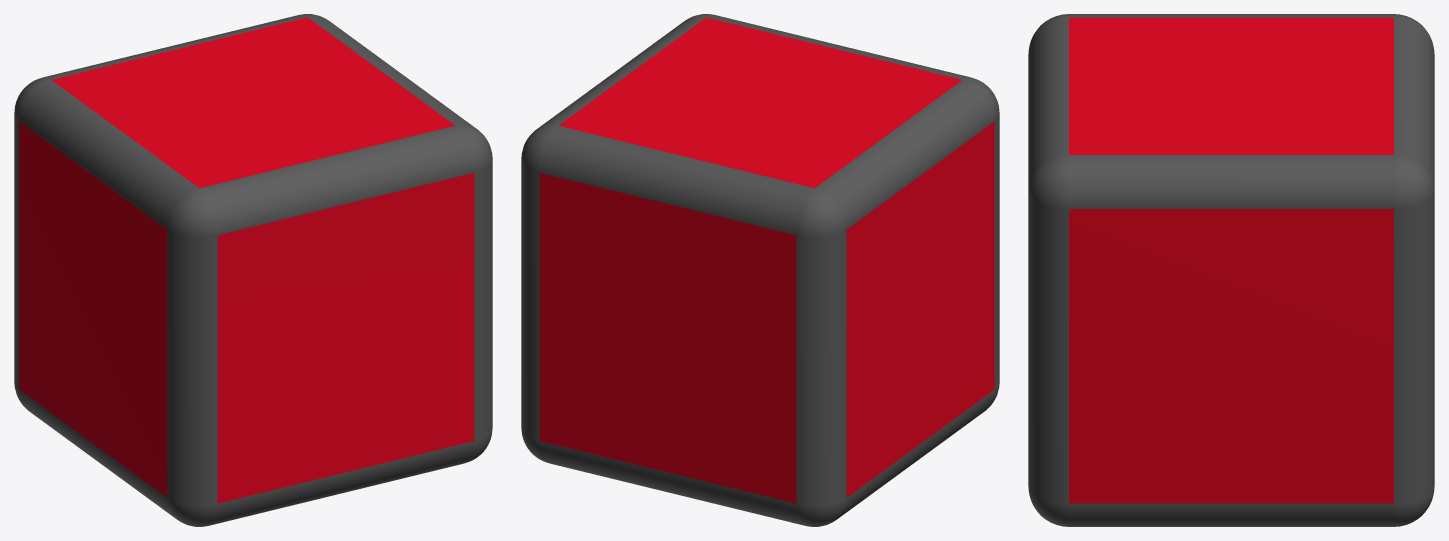
File: stone1.glb
The picture shows the model from 3 angles, left to right: view 1: azimuth 30°, elevation 25°; view 2: azimuth 150°, elevation 25°; view 3: azimuth 270°, elevation 25°; orthographic projection. The views are drawn at different scales.
Visible parts, largest first — view 1: Cube; view 2: Cube; view 3: Cube.
Boxes of the visible parts, box(x1,y1,x2,y2) form: Cube: box(14, 14, 492, 526); Cube: box(521, 14, 999, 526); Cube: box(1028, 14, 1434, 526).
Size of the model in its own units: 1 by 1 by 1.
